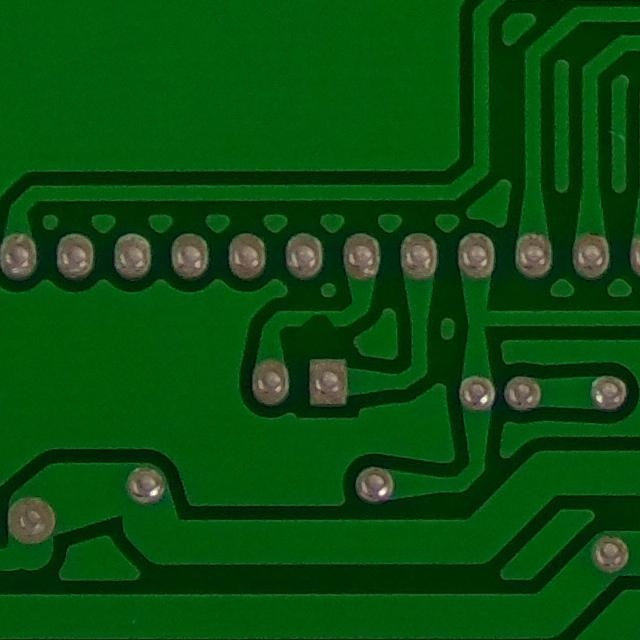mouse_bite: (292, 303, 348, 337)
